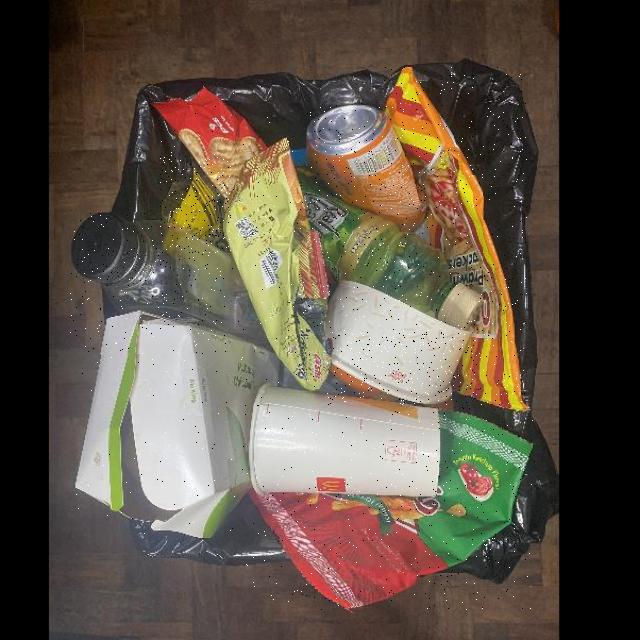metal: (307, 103, 428, 232)
paper: (74, 313, 281, 539), (247, 383, 443, 499), (325, 277, 476, 405)
plastic: (297, 175, 483, 332), (71, 212, 271, 354)
wrapper: (244, 411, 535, 610), (385, 67, 527, 409), (226, 139, 332, 392), (155, 86, 270, 200), (160, 154, 231, 253)
